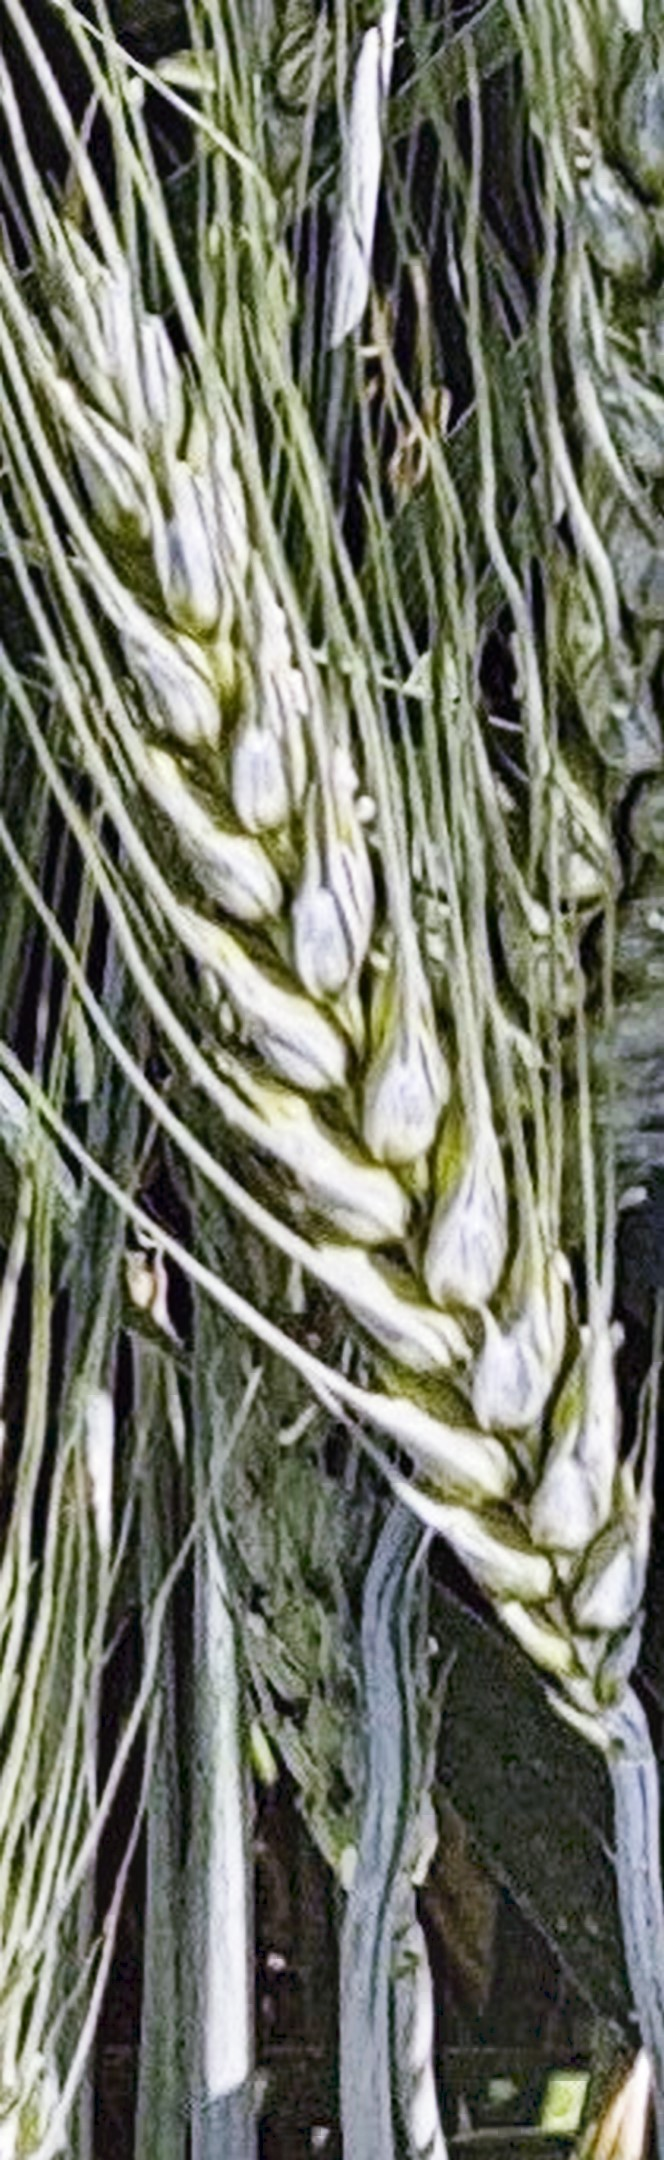Healthy Wheat: (41, 256, 664, 1626)
